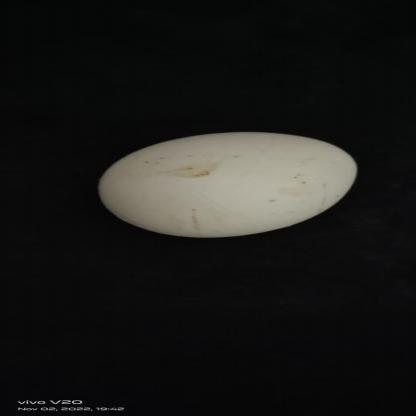egg: (99, 129, 357, 240)
